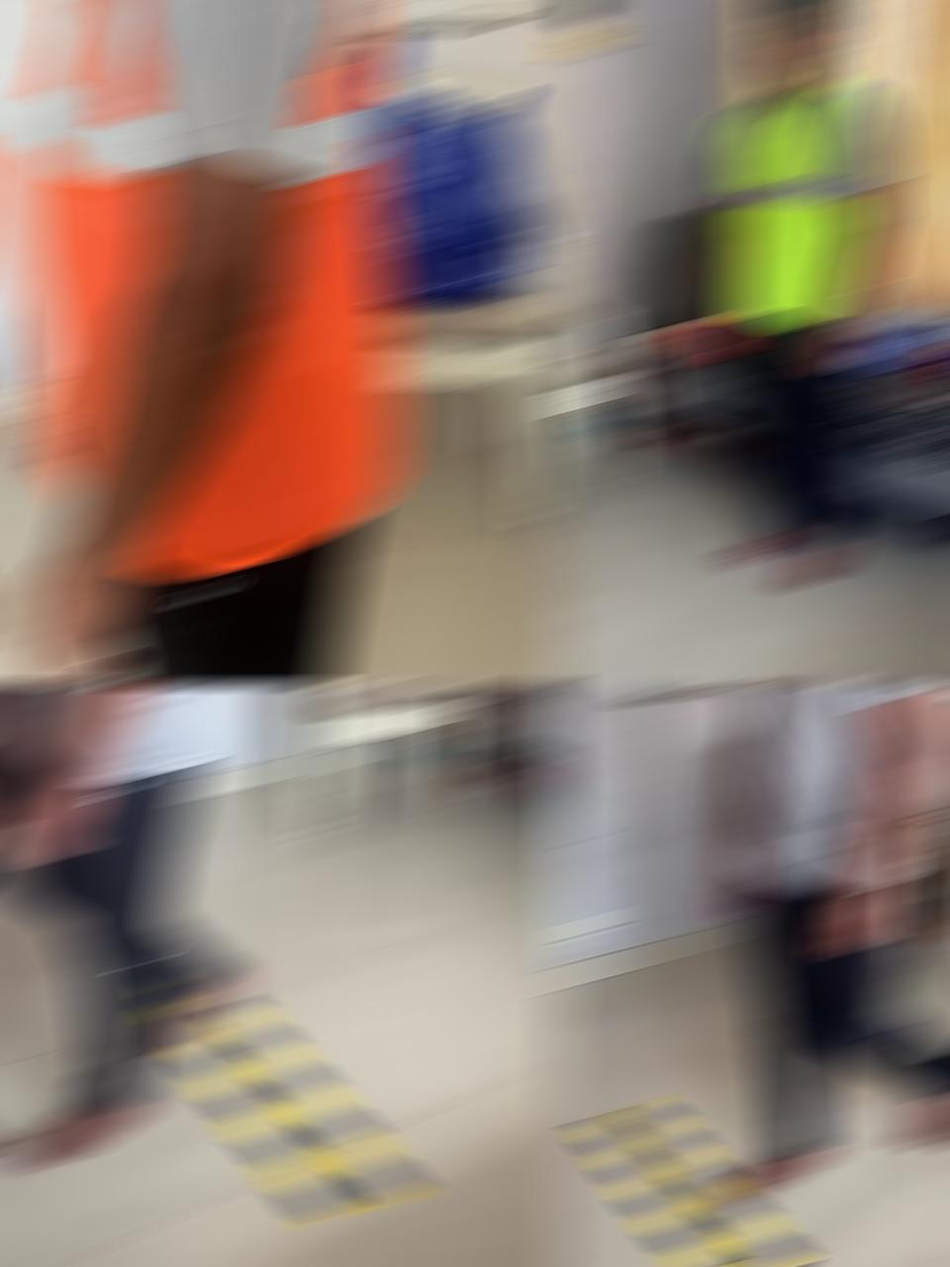BorderLine: (142, 986, 421, 1221), (575, 1107, 906, 1265)
No_Helmet: (754, 2, 852, 88)
No_Vest: (729, 686, 934, 896), (0, 686, 217, 781)
Person: (12, 2, 406, 682), (701, 686, 950, 1197), (690, 2, 907, 587), (0, 686, 252, 1173)
Vest: (12, 2, 406, 574), (708, 82, 895, 329)
